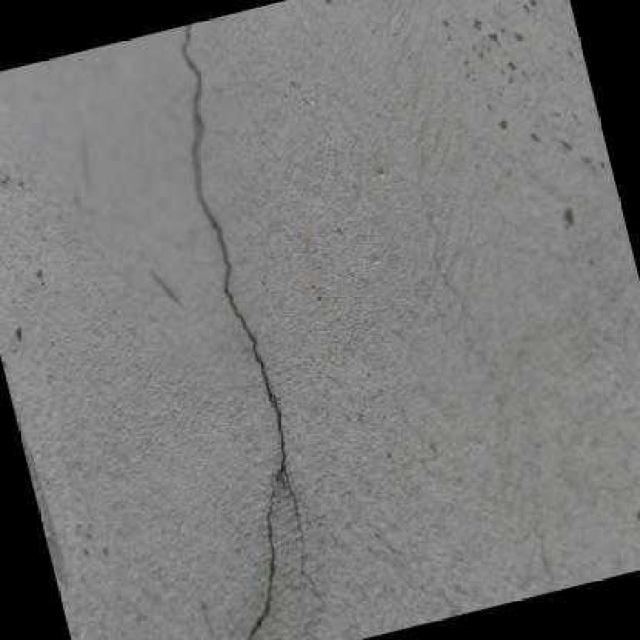D00: (175, 20, 289, 640)
